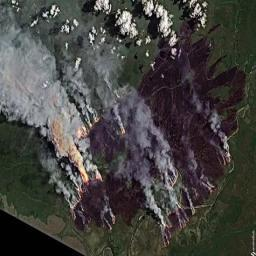Heavy smoke: (2, 27, 75, 125)
Medium fire: (53, 130, 98, 189)
Small fire: (117, 125, 128, 136)
